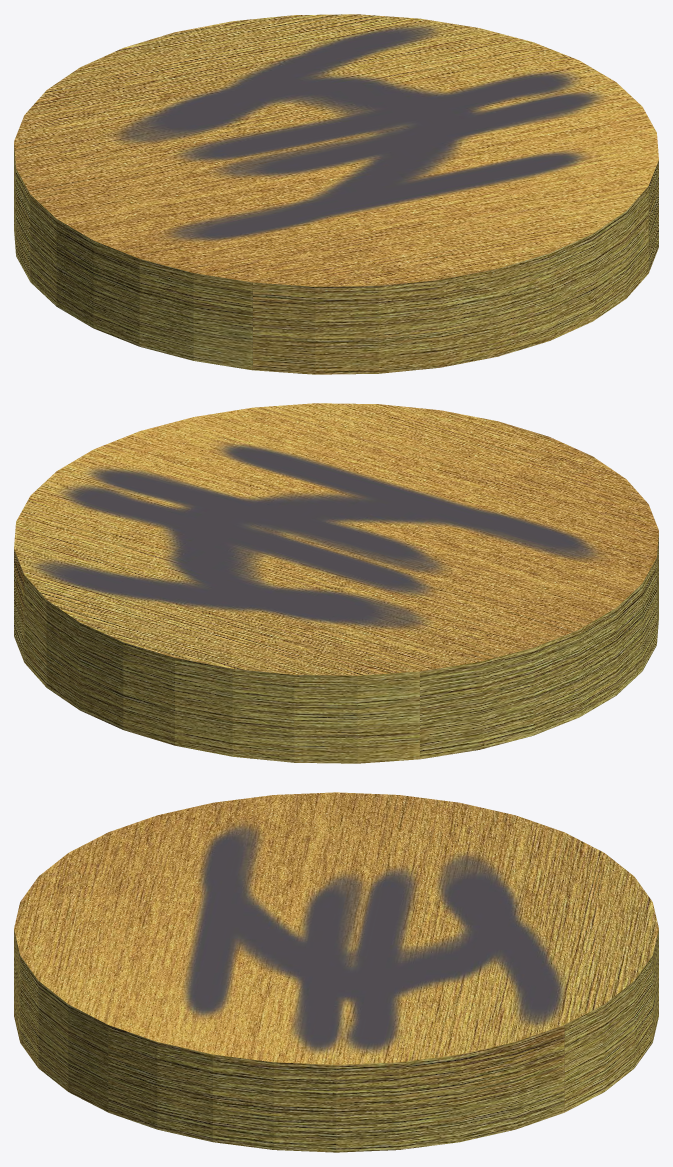
The model's file is coin.obj.
3 renders of one model, top to bottom at view 1: azimuth 30°, elevation 25°; view 2: azimuth 150°, elevation 25°; view 3: azimuth 270°, elevation 25°, orthographic.
Visible parts, largest first — view 1: Cylinder; view 2: Cylinder; view 3: Cylinder.
Part boxes in pixels (<box>): Cylinder: <box>14,14,658,374</box>; Cylinder: <box>14,403,658,763</box>; Cylinder: <box>14,792,658,1152</box>.
Size of the model in its own units: 2 by 0.3 by 2.
